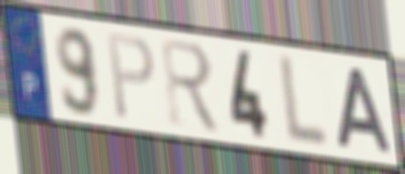4: (229, 48, 271, 141)
9: (54, 24, 102, 118)
A: (334, 65, 395, 157)
L: (278, 51, 332, 153)
P: (105, 31, 157, 123)
R: (157, 34, 224, 138)
